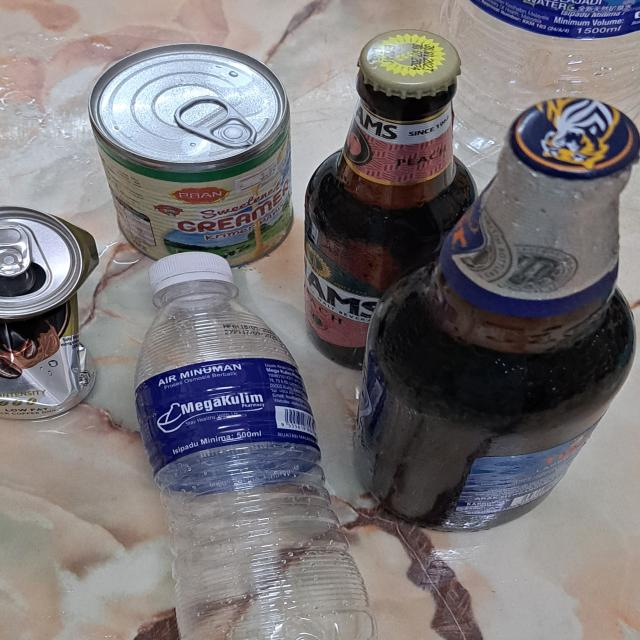can: (91, 43, 293, 270), (0, 208, 98, 427)
glass bottle: (351, 97, 640, 533), (305, 29, 479, 372)
plastic bottle: (130, 281, 376, 640), (449, 0, 640, 170)
plastic bottle cap: (146, 251, 236, 306)
pop tab: (174, 94, 258, 147), (0, 224, 31, 276)
